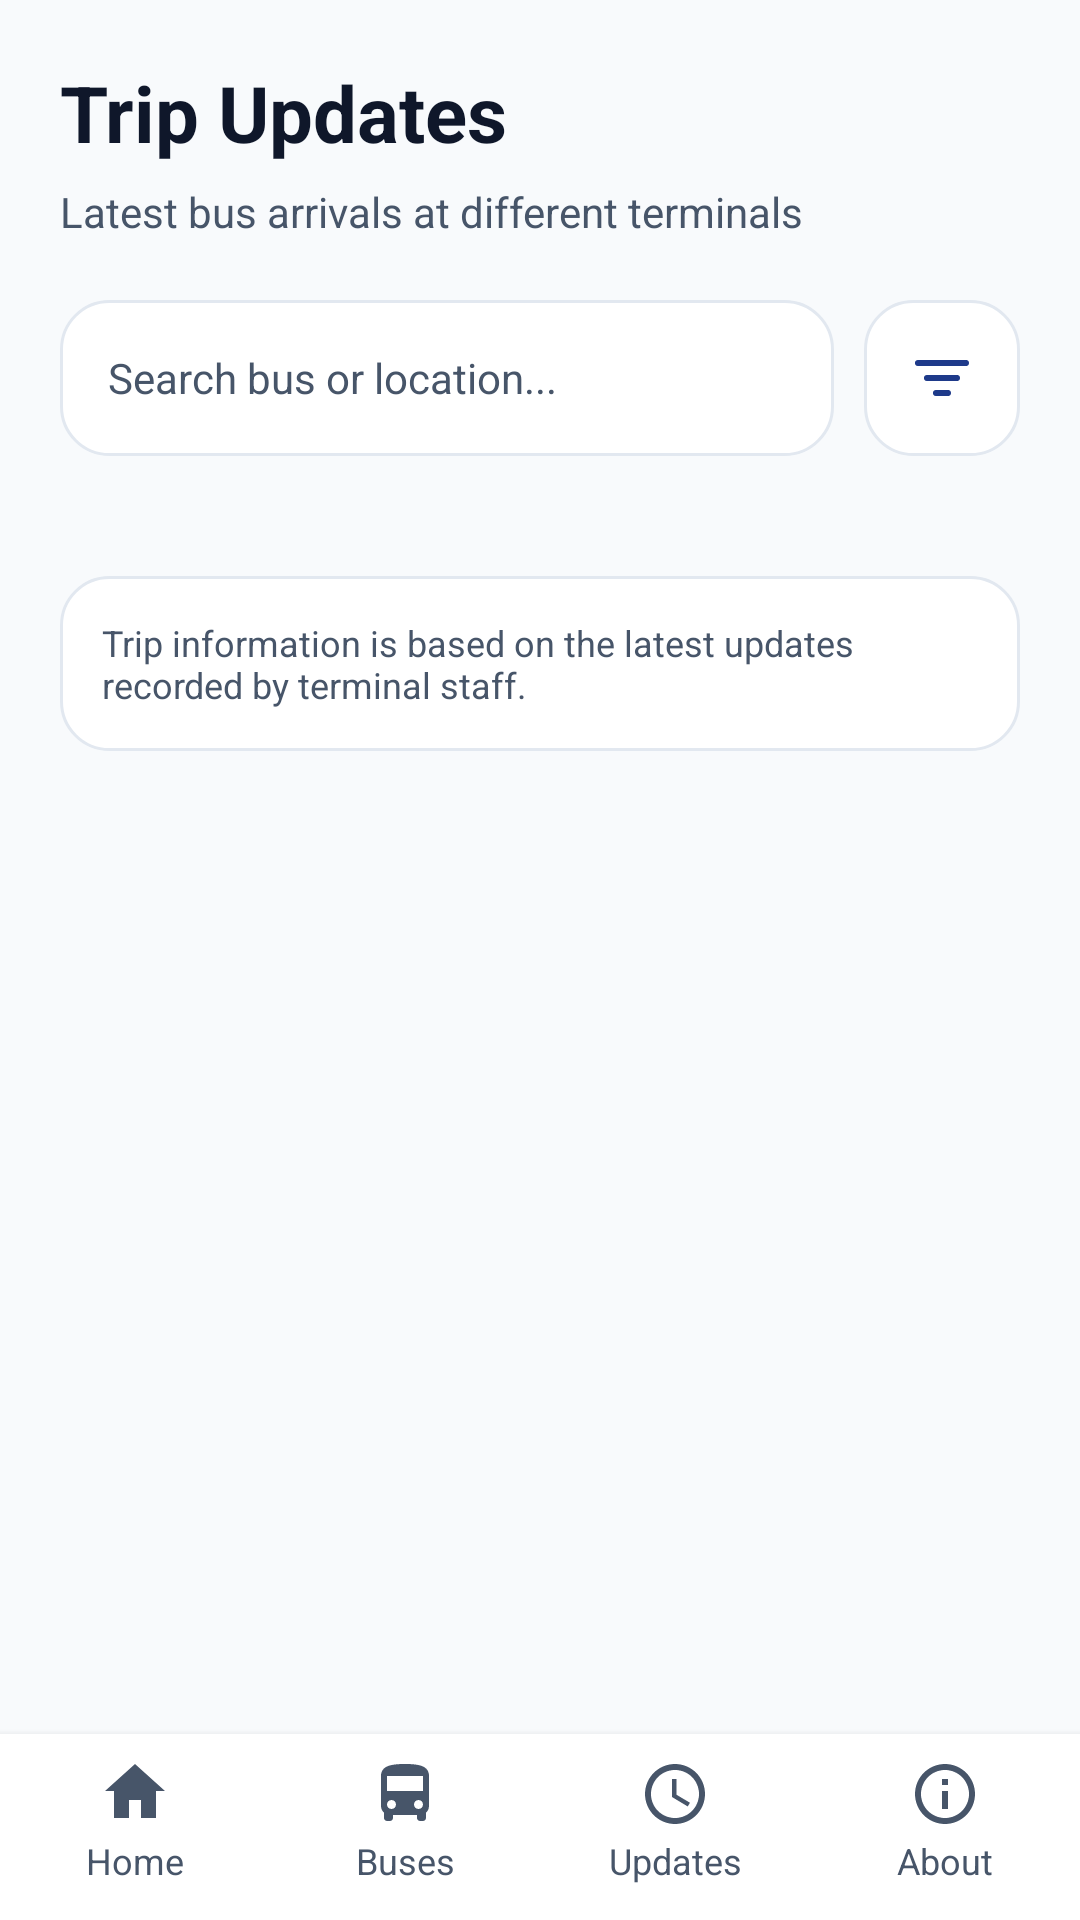

Locate icon controls on the screen. Image size 1080x1920, boxes as BBox(x1, y1, x2, y2).
Filter by terminal: BBox(915, 360, 969, 396)
